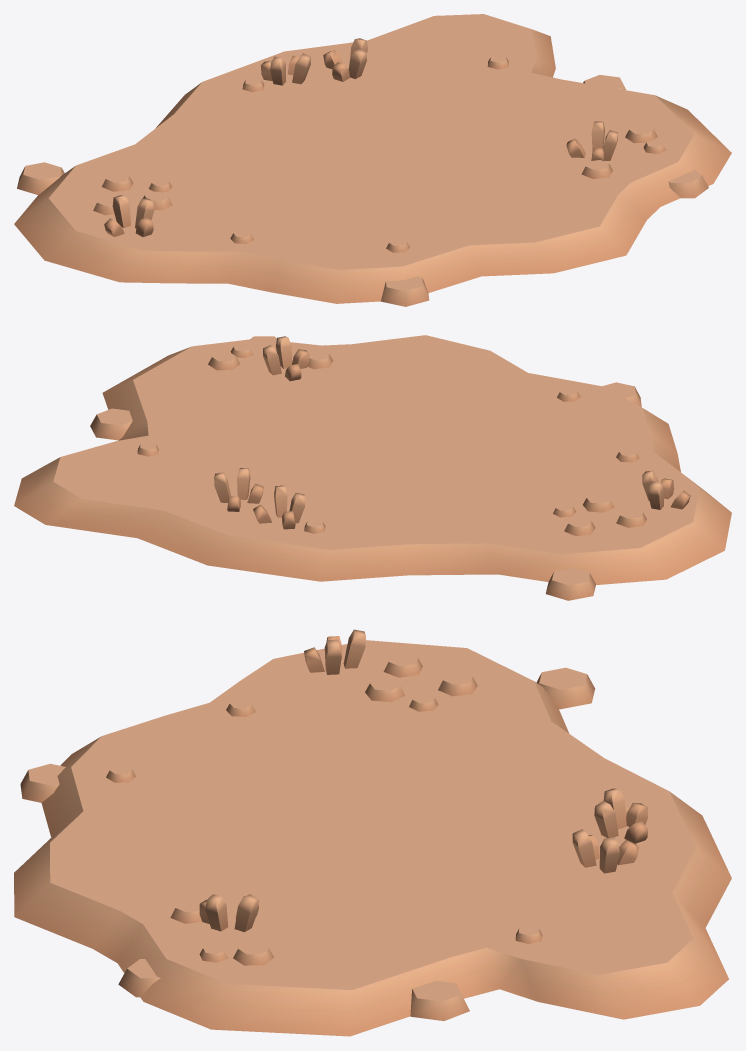
The model's file is kenney-pirate-patch-sand-foliage.glb.
The picture shows the model from 3 angles, top to bottom: view 1: azimuth 30°, elevation 25°; view 2: azimuth 150°, elevation 25°; view 3: azimuth 270°, elevation 25°; orthographic projection. The views are drawn at different scales.
Visible parts, largest first — view 1: patch-sand-foliage; view 2: patch-sand-foliage; view 3: patch-sand-foliage.
Part boxes in pixels (x1,y1,x2,y2): patch-sand-foliage: (14,14,731,306); patch-sand-foliage: (14,335,731,600); patch-sand-foliage: (14,629,731,1036).
Bounding box in the file's own units: 7.74 × 0.5638 × 6.04.
Materials: 1 (1 with a texture image).
